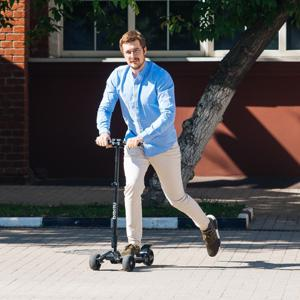human on a scooter: (88, 29, 221, 273)
